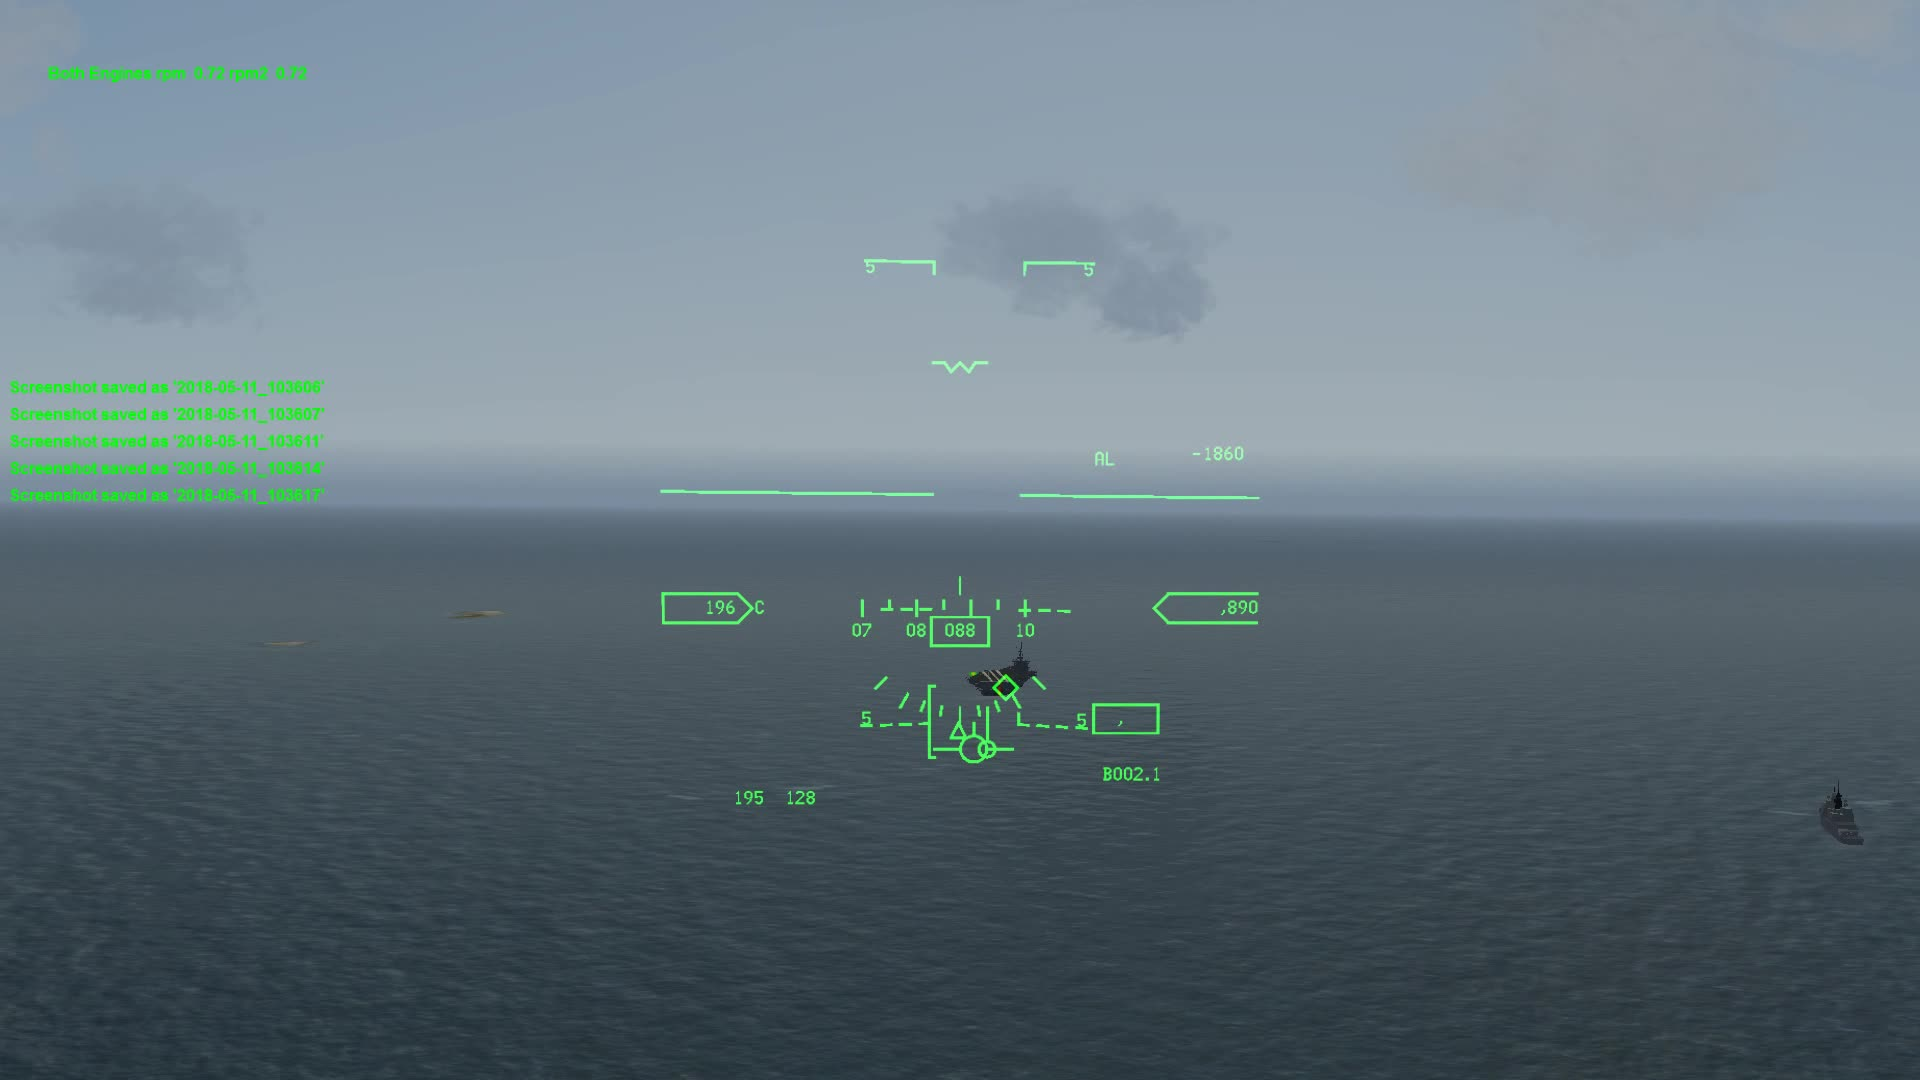speed vector: (951, 723, 1004, 786)
